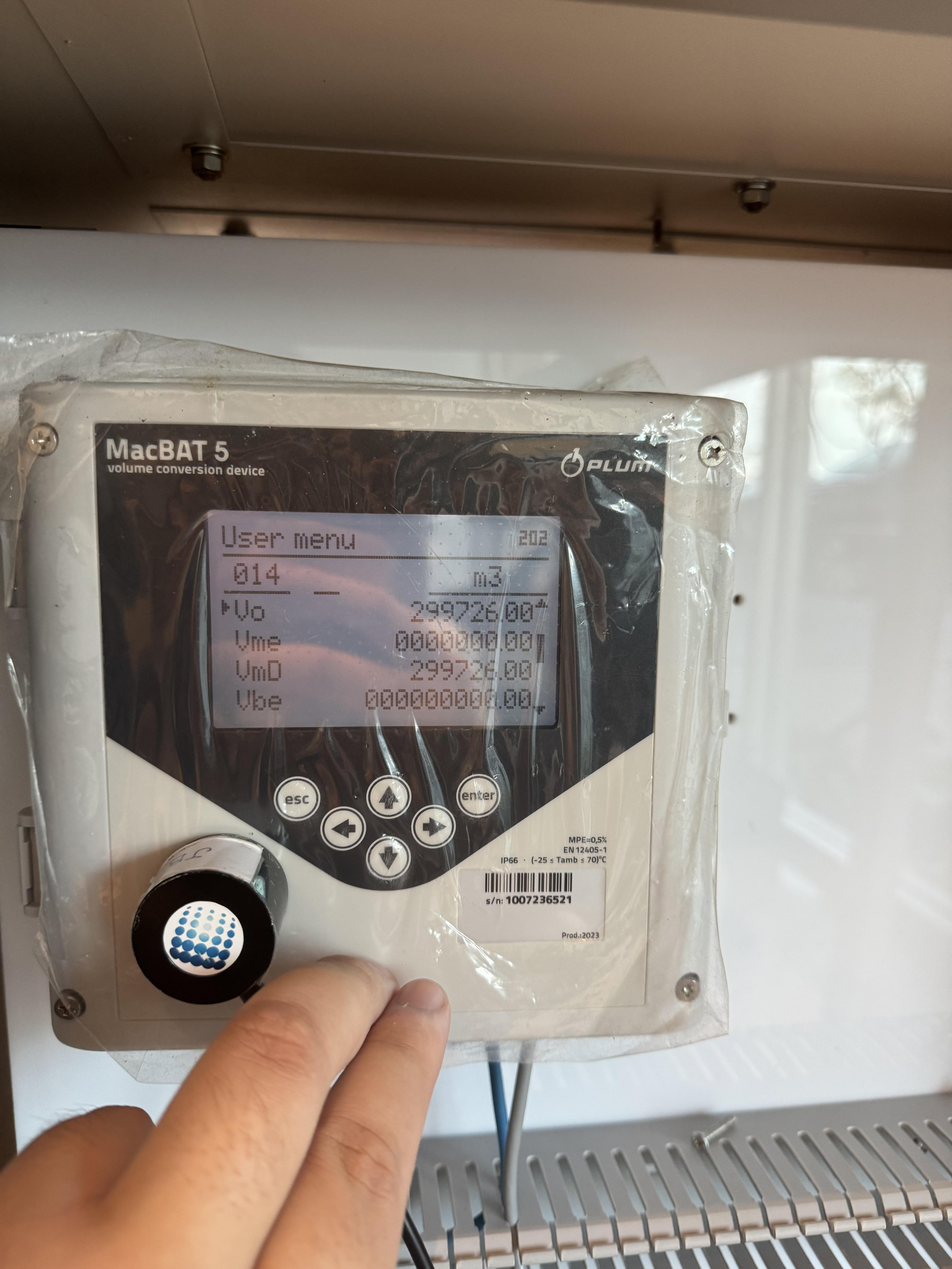digital_screen: (207, 511, 561, 728)
